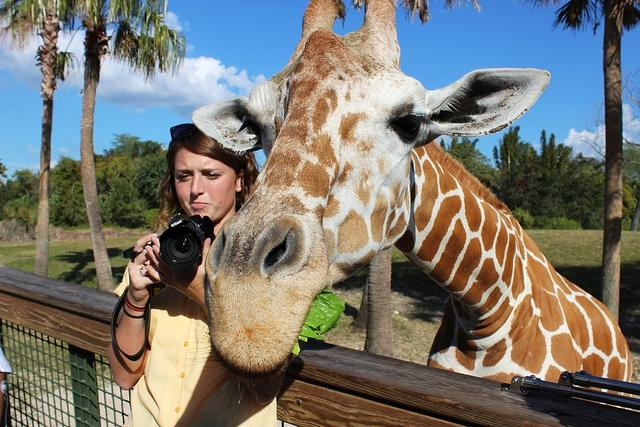lettuce: (292, 288, 346, 356)
